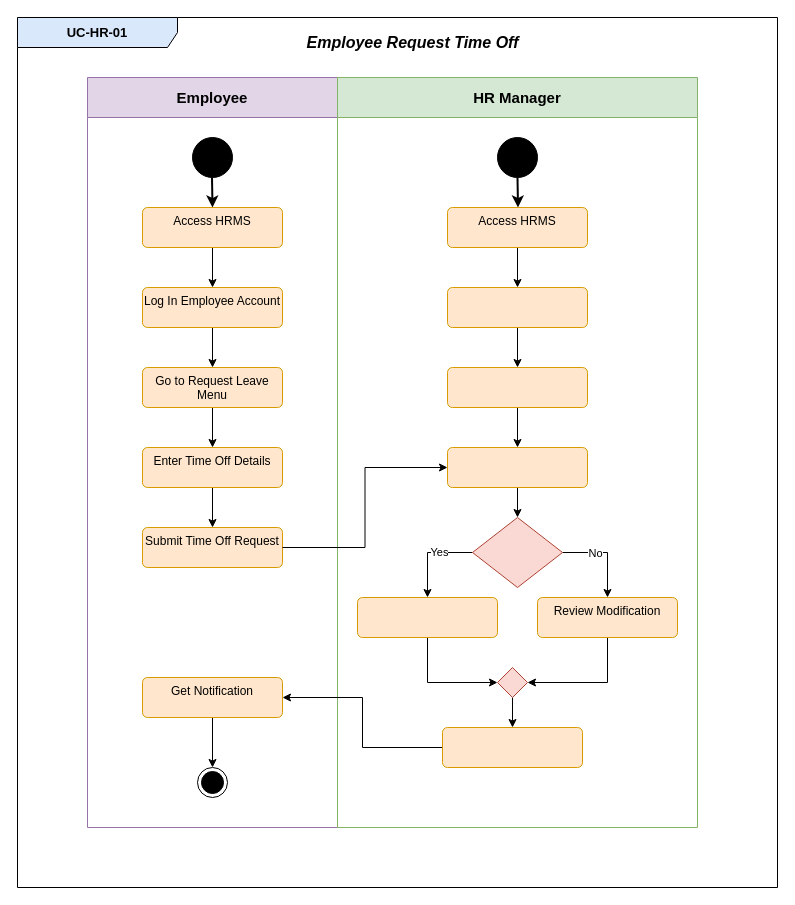
Image size: 795x905. Some labels were removed from this diagram. Each missing label, with the box of its shape:
Approved?: (472, 516, 562, 588)
Go to Leave Requests: (446, 366, 588, 408)
Log In HR Manager Account: (446, 286, 588, 328)
Notify Employee: (356, 596, 498, 638)
Review Time Off Requests: (446, 446, 588, 488)
Send Notification: (442, 726, 582, 768)
